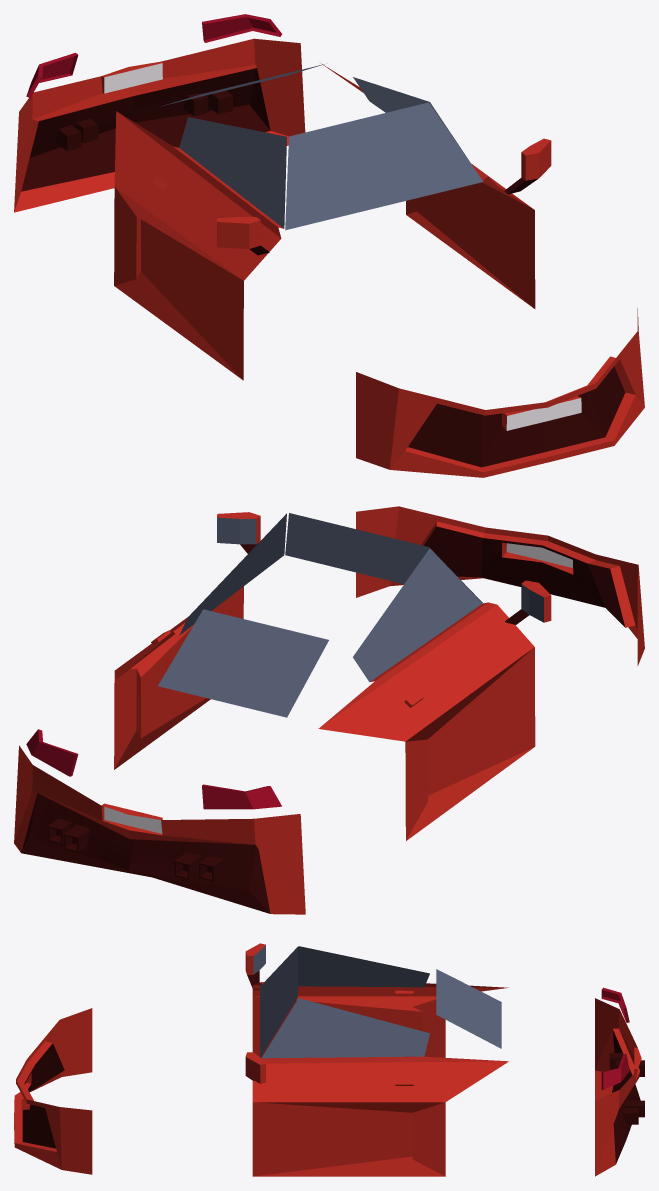
The model's file is car2Bumper2.fbx.
The picture shows the model from 3 angles, top to bottom: view 1: azimuth 30°, elevation 25°; view 2: azimuth 150°, elevation 25°; view 3: azimuth 270°, elevation 25°; orthographic projection. The views are drawn at different scales.
Parts seen in each view (by area): view 1: bumper2.001; view 2: bumper2.001; view 3: bumper2.001.
Part boxes in pixels (bbox=[...]): bumper2.001: bbox=[14, 14, 644, 477]; bumper2.001: bbox=[14, 506, 644, 914]; bumper2.001: bbox=[14, 943, 644, 1176].
Bounding box in the file's own units: 2.63 × 1.53 × 5.77.
